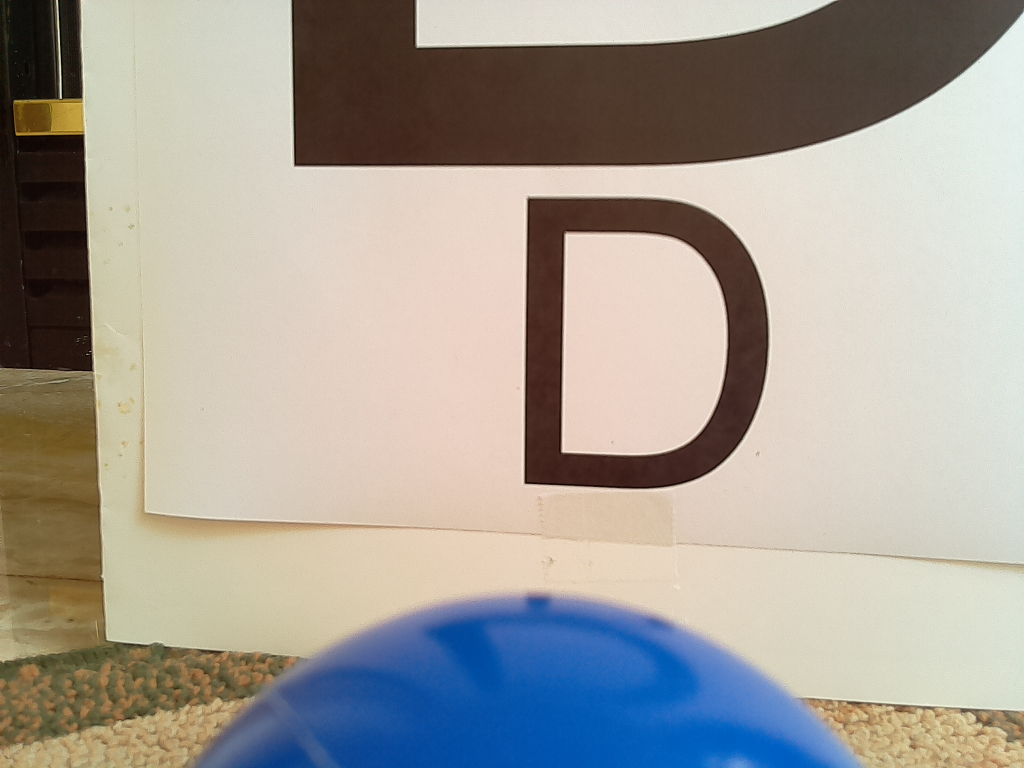letter: (527, 198, 770, 485)
